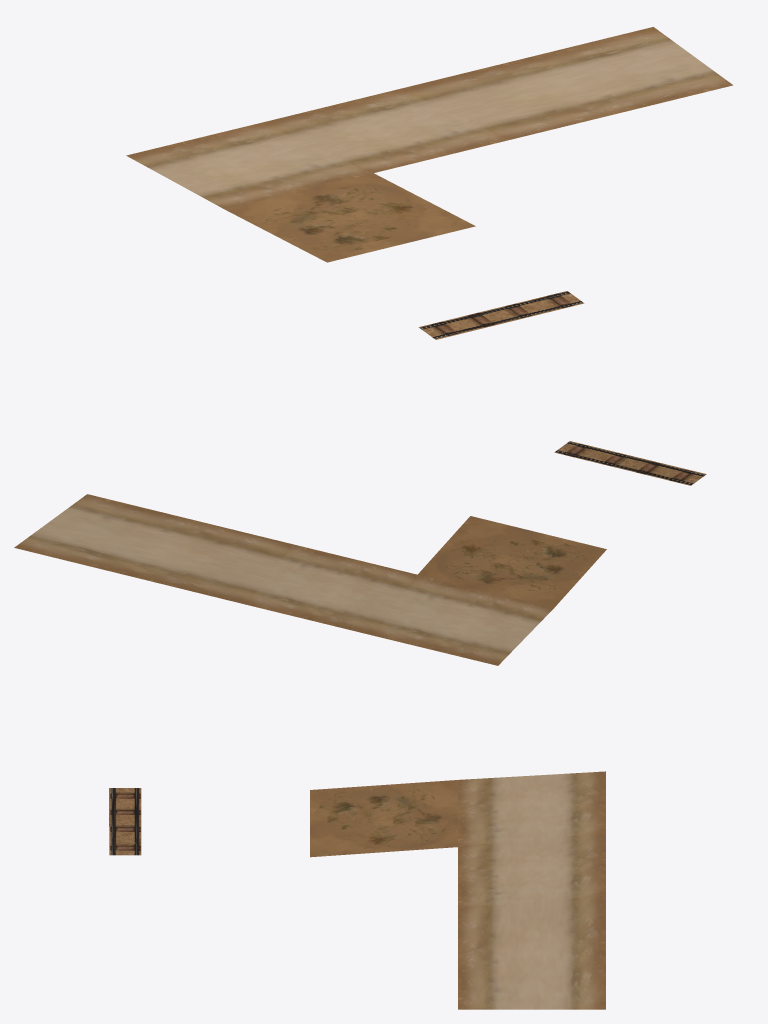
3 renders of one model, top to bottom at view 1: azimuth 30°, elevation 25°; view 2: azimuth 150°, elevation 25°; view 3: azimuth 270°, elevation 25°, orthographic. The views are drawn at different scales.
Parts seen in each view (by area): view 1: 7; view 2: 7; view 3: 7.
Part boxes in pixels (x1,y1,x2,y2): 7: (126,27,732,339); 7: (14,441,706,665); 7: (109,771,605,1009).
Size of the model in its own units: 8849 by 469 by 10691.
4 materials, 4 textured.
